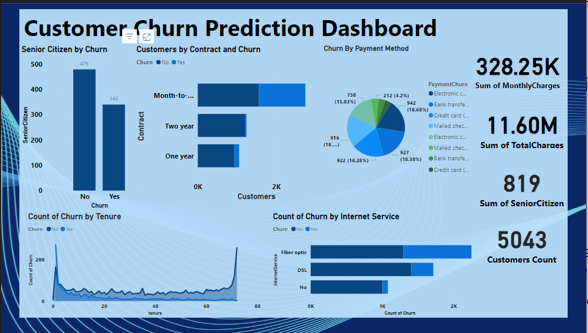

What the dashboard file says about the page in this screenshot:
{"tool":"powerbi","page":{"name":"Page 1","canvas":[1280,720],"ordinal":0},"visuals":[{"type":"textbox","box":[0,0,986.2,81.2],"z":0},{"type":"card","fields":{"Values":["CountNonNull(churn_prime.customerID)"]},"box":[1072.5,491.2,200,105],"z":3},{"type":"card","fields":{"Values":["Sum(churn_prime.TotalCharges)"]},"box":[1065,223.8,215,105],"z":4},{"type":"card","fields":{"Values":["Sum(churn_prime.MonthlyCharges)"]},"box":[1055,81.2,215,115],"z":5},{"type":"card","fields":{"Values":["Sum(churn_prime.SeniorCitizen)"]},"box":[1065,360,215,106.2],"z":6},{"type":"columnChart","title":"Senior Citizen by Churn","fields":{"Y":["Sum(churn_prime.SeniorCitizen)"],"Category":["churn_prime.Churn"]},"box":[0,81.2,316.2,390],"z":7},{"type":"barChart","fields":{"Category":["churn_prime.Contract"],"Series":["churn_prime.Churn"],"Y":["CountNonNull(churn_prime.customerID)"]},"box":[268.8,81.2,437.5,371.2],"z":8},{"type":"areaChart","title":"Count of Churn by Tenure ","fields":{"Category":["churn_prime.tenure"],"Y":["CountNonNull(churn_prime.Churn)"],"Series":["churn_prime.Churn"]},"box":[15,471.2,555,248.8],"z":9},{"type":"barChart","title":"Count of Churn by Internet Service","fields":{"Category":["churn_prime.InternetService"],"Series":["churn_prime.Churn"],"Y":["CountNonNull(churn_prime.Churn)"]},"box":[587.5,471.2,531.2,248.8],"z":10},{"type":"pieChart","title":"Churn By Payment Method","fields":{"Category":["churn_prime.PaymentChurn"],"Y":["CountNonNull(churn_prime.customerID)"]},"box":[706.2,81.2,358.8,371.2],"z":11}]}

Visuals, with their boxes in screenshot pixels (x1, y1, x2, y2), scaled from the page's 1280x720 canvas onto the 588x333 screenshot:
textbox: (0,0,453,38)
card - CountNonNull(churn_prime.customerID): (493,227,585,276)
card - Sum(churn_prime.TotalCharges): (489,104,587,152)
card - Sum(churn_prime.MonthlyCharges): (485,38,583,91)
card - Sum(churn_prime.SeniorCitizen): (489,166,587,216)
"Senior Citizen by Churn" columnChart: (0,38,145,218)
barChart - churn_prime.Contract x churn_prime.Churn: (123,38,324,209)
"Count of Churn by Tenure " areaChart: (7,218,262,332)
"Count of Churn by Internet Service" barChart: (270,218,514,332)
"Churn By Payment Method" pieChart: (324,38,489,209)
